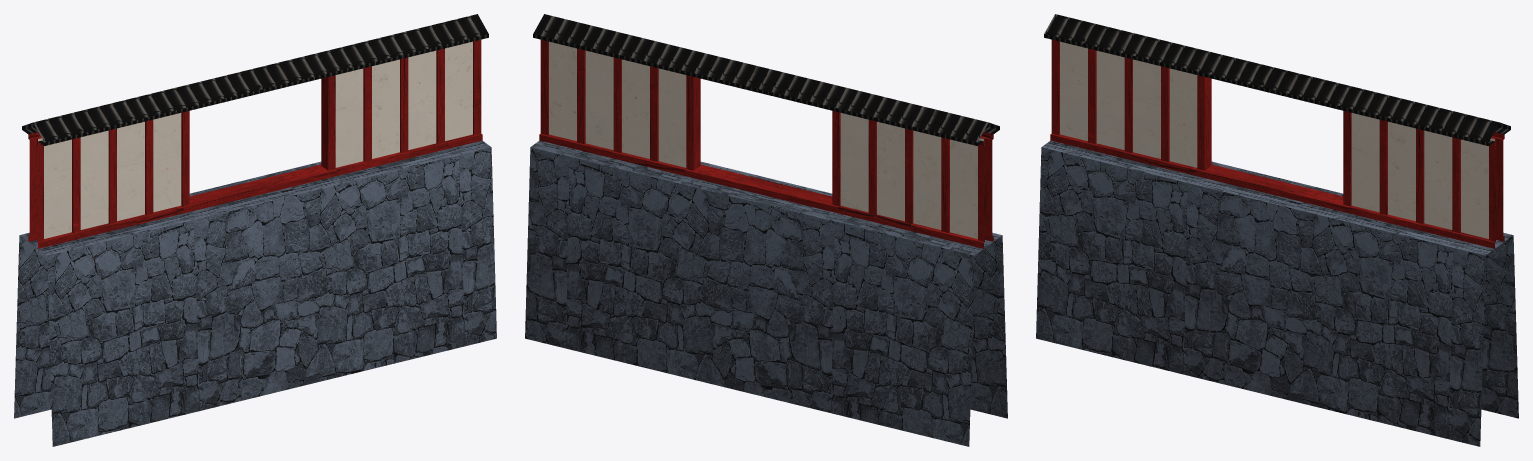
The model's file is WallHighHighJump.fbx.
3 renders of one model, left to right at view 1: azimuth 30°, elevation 25°; view 2: azimuth 150°, elevation 25°; view 3: azimuth 330°, elevation 25°, orthographic.
Visible parts, largest first — view 1: Cube_023, Cube_006, Cube_036, Cube_035; view 2: Cube_023, Cube_006, Cube_036, Cube_035; view 3: Cube_023, Cube_006, Cube_036, Cube_035.
Part boxes in pixels (x1,y1,x2,y2): Cube_023: [14, 140, 496, 446]; Cube_006: [38, 41, 472, 238]; Cube_036: [28, 39, 482, 248]; Cube_035: [22, 14, 488, 145]; Cube_023: [525, 140, 1007, 446]; Cube_006: [549, 41, 983, 238]; Cube_036: [539, 39, 993, 248]; Cube_035: [533, 14, 999, 145]; Cube_023: [1036, 140, 1518, 446]; Cube_006: [1060, 41, 1494, 238]; Cube_036: [1050, 39, 1504, 248]; Cube_035: [1044, 14, 1510, 145].
Bounding box in the file's own units: 1148 × 766 × 173.
